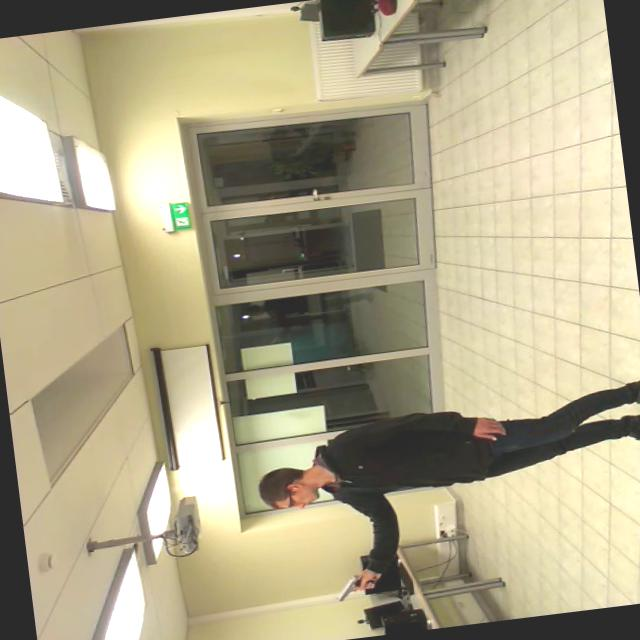handgun: (325, 568, 382, 604)
